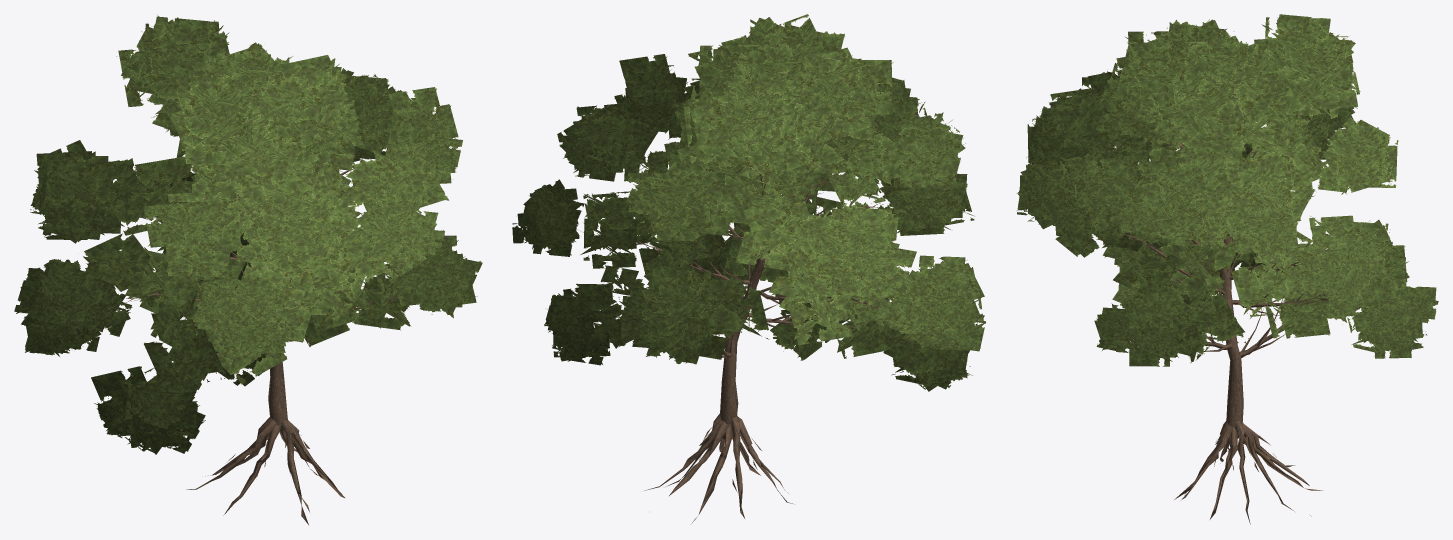
Rendered from eu43-1-mass.glb.
The picture shows the model from 3 angles, left to right: view 1: azimuth 30°, elevation 25°; view 2: azimuth 150°, elevation 25°; view 3: azimuth 270°, elevation 25°; orthographic projection. The views are drawn at different scales.
Size of the model in its own units: 206 by 219 by 187.
Materials: 2 (2 with a texture image).
